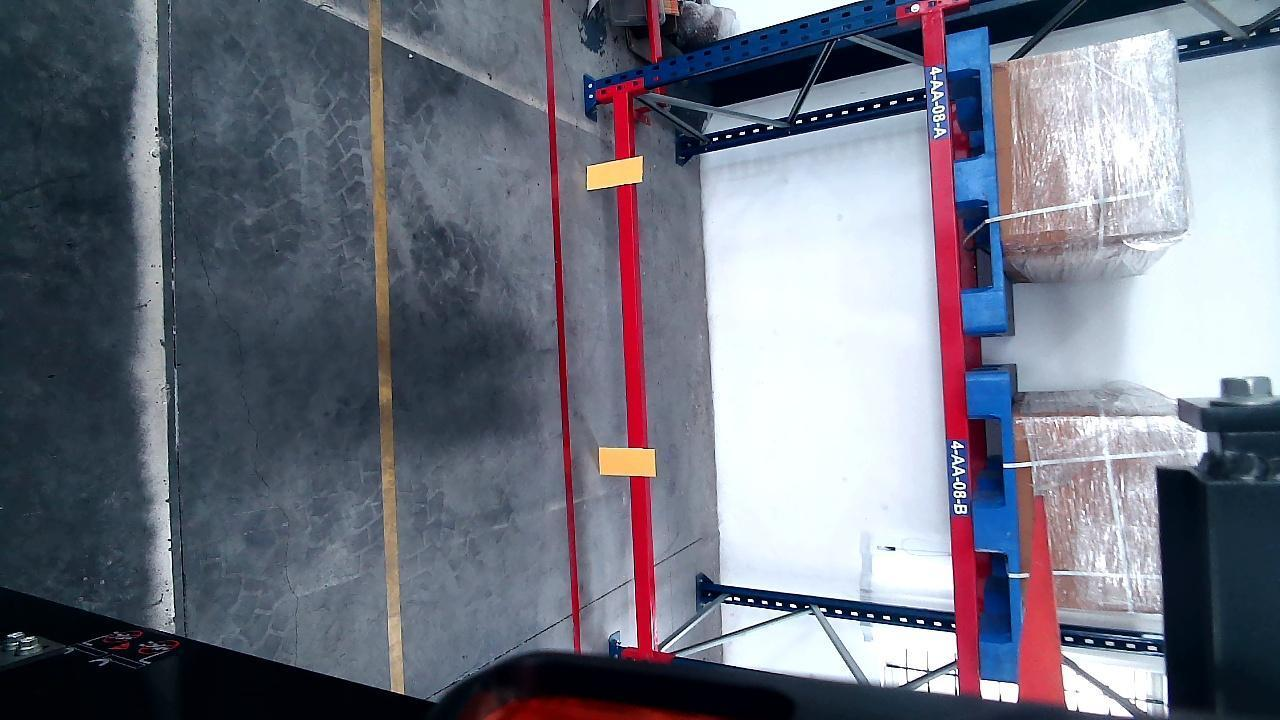h_rack: (921, 9, 984, 699), (612, 93, 653, 641)
orange_strip: (587, 156, 643, 189), (600, 446, 656, 476)
red_line: (535, 0, 587, 652)
small_pallet: (967, 374, 1028, 681), (948, 23, 1006, 337)
yellow_line: (368, 0, 407, 692)
